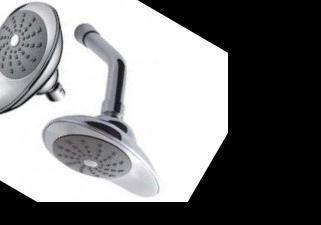Ducha: (0, 0, 221, 219)
